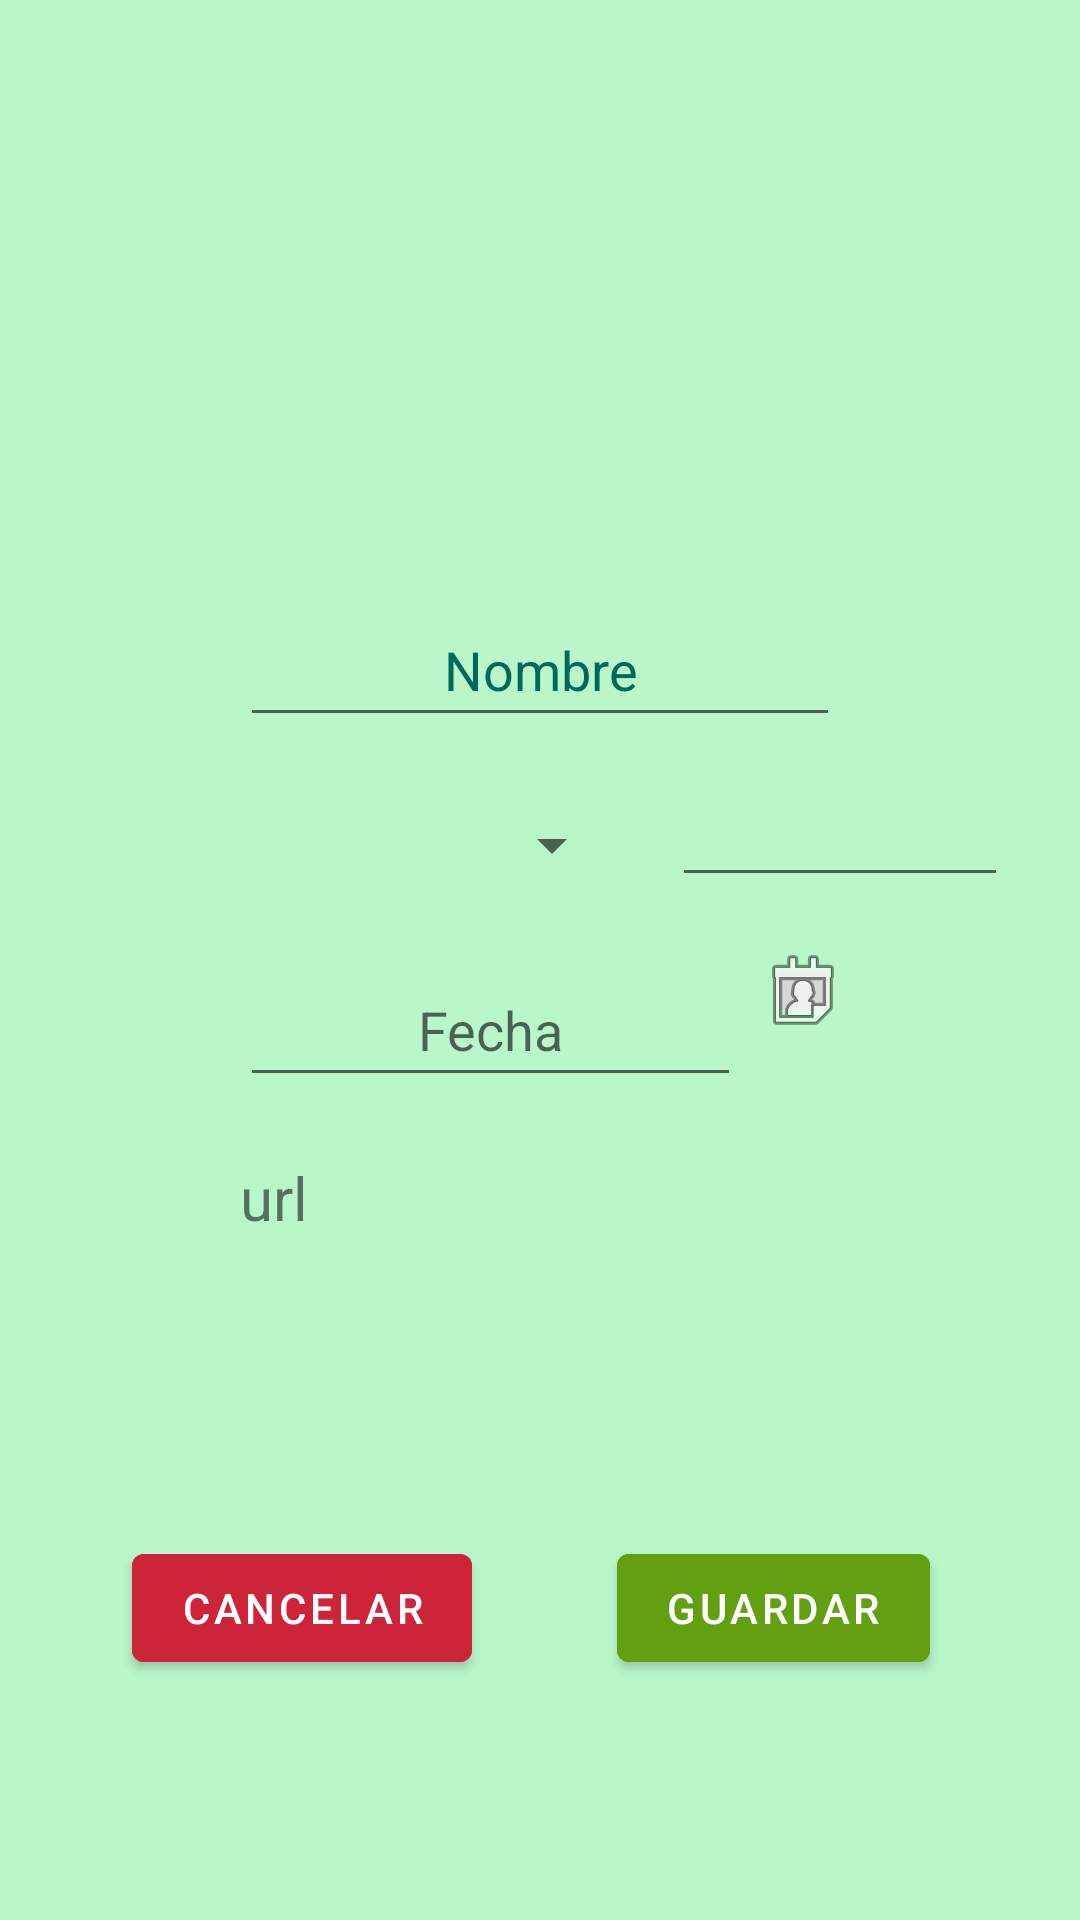

Where icons sit on this 1080x1920 app screen, as (left=x1, top=y1, right=x2, bottom=y2):
calendar: (left=772, top=955, right=834, bottom=1025)
